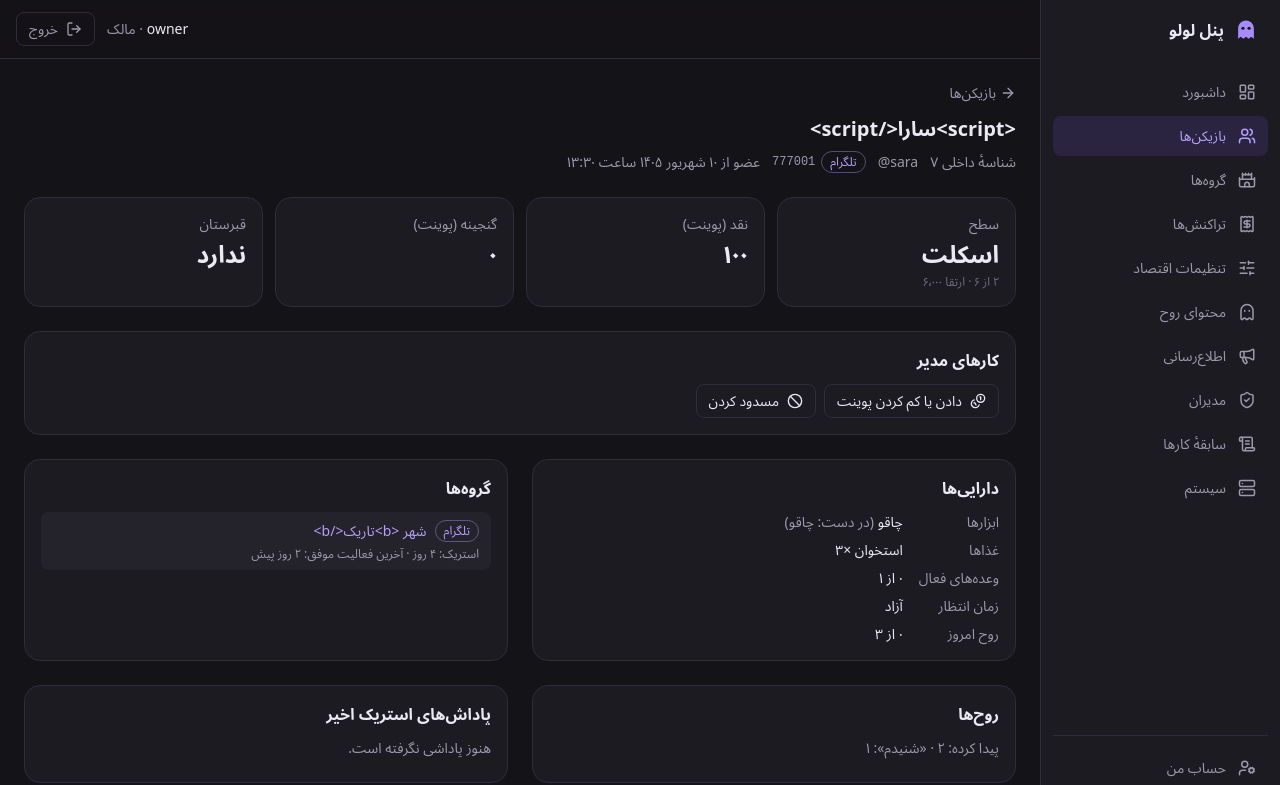
player profile › gives points only after a preview and a confirmation, with one key per form
Click the button "دادن یا کم کردن پوینت". click: (912, 401)
box: [824,384,999,418]
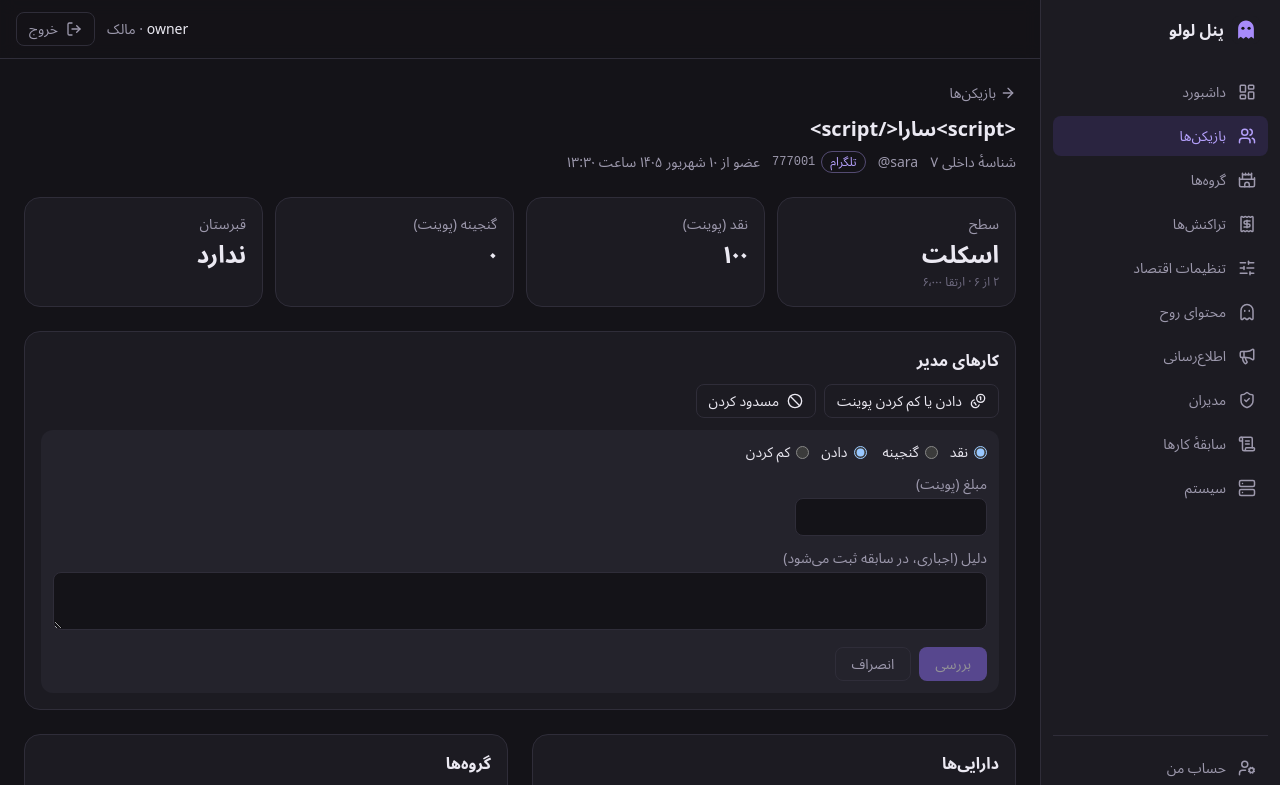
Type "۲۵۰٫۵" into the field labelled "مبلغ (پوینت)". click: (891, 517)
box: [795,498,987,536]
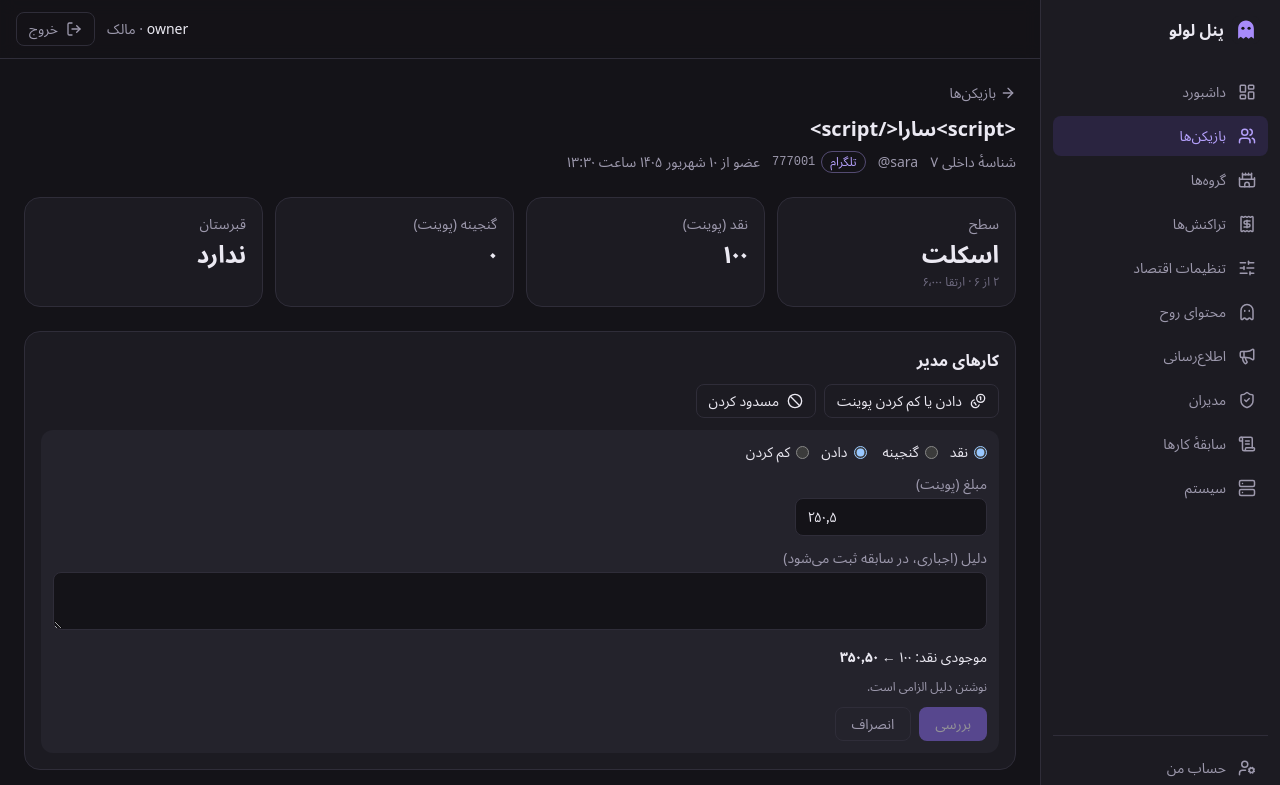
Type "جبران باگ" into the text box labelled "دلیل (اجباری، در سابقه ثبت می‌شود)". click: (520, 601)
box: [53,572,987,630]
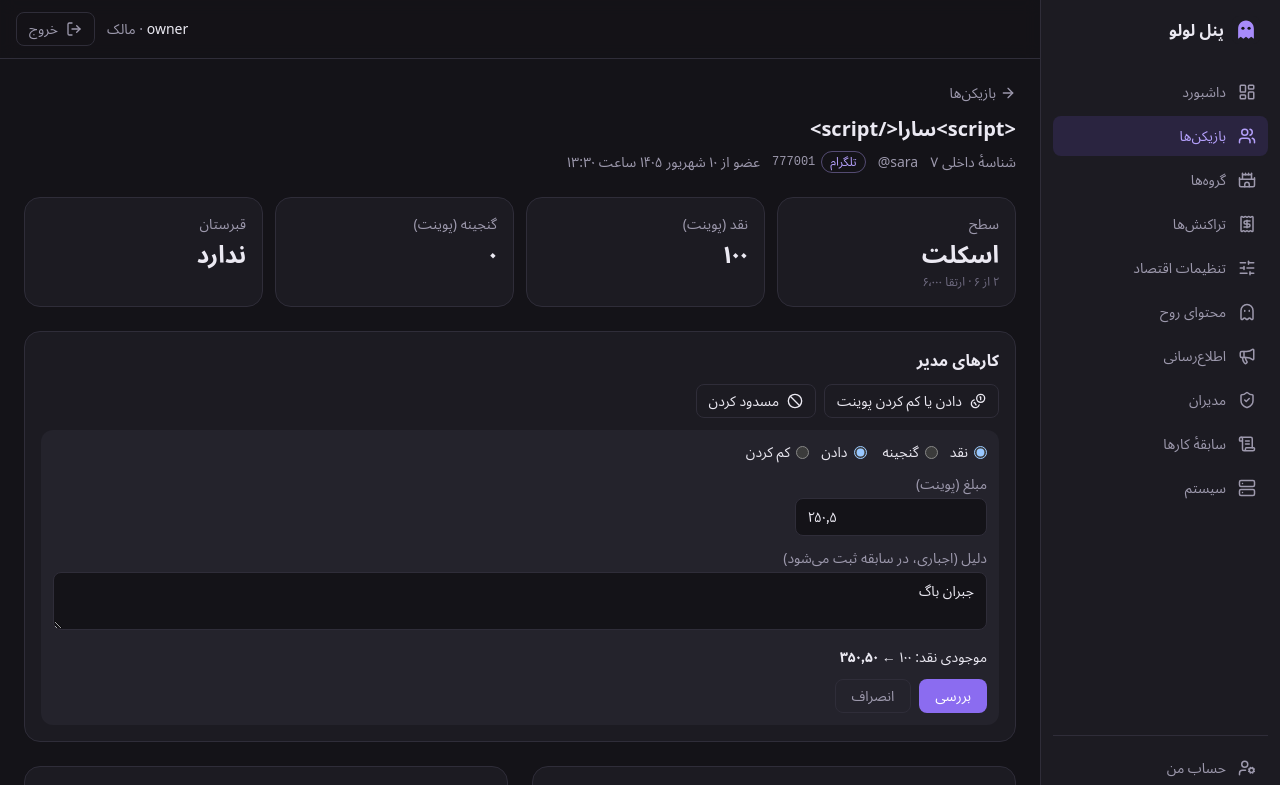
Expected: the text "موجودی نقد: ۱۰۰ ← ۳۵۰٫۵۰" is shown, [840,647,987,666]
Click the button "بررسی". click: (953, 696)
box: [919,679,987,713]
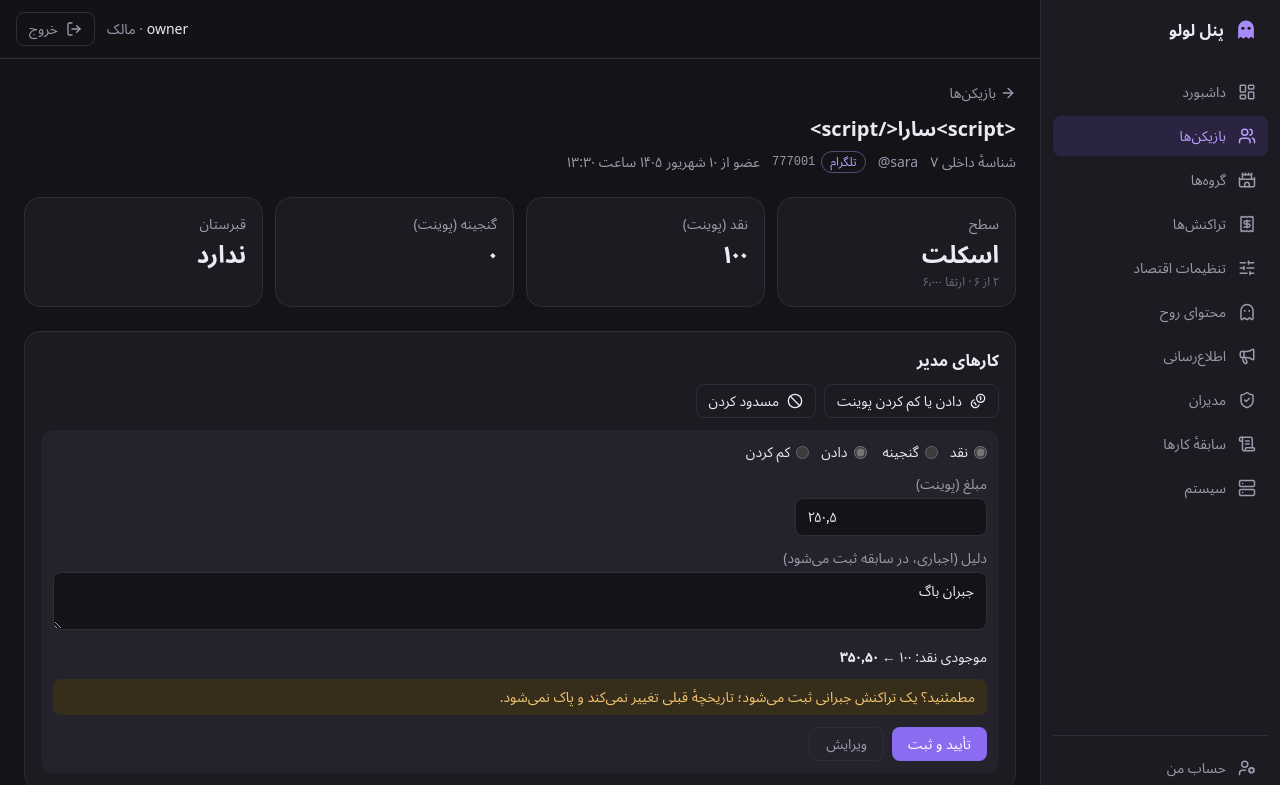
Expected: the text "تاریخچهٔ قبلی تغییر نمی‌کند" is shown, [500,687,975,706]
Click the button "تأیید و ثبت". click: (940, 744)
box: [892,727,987,761]
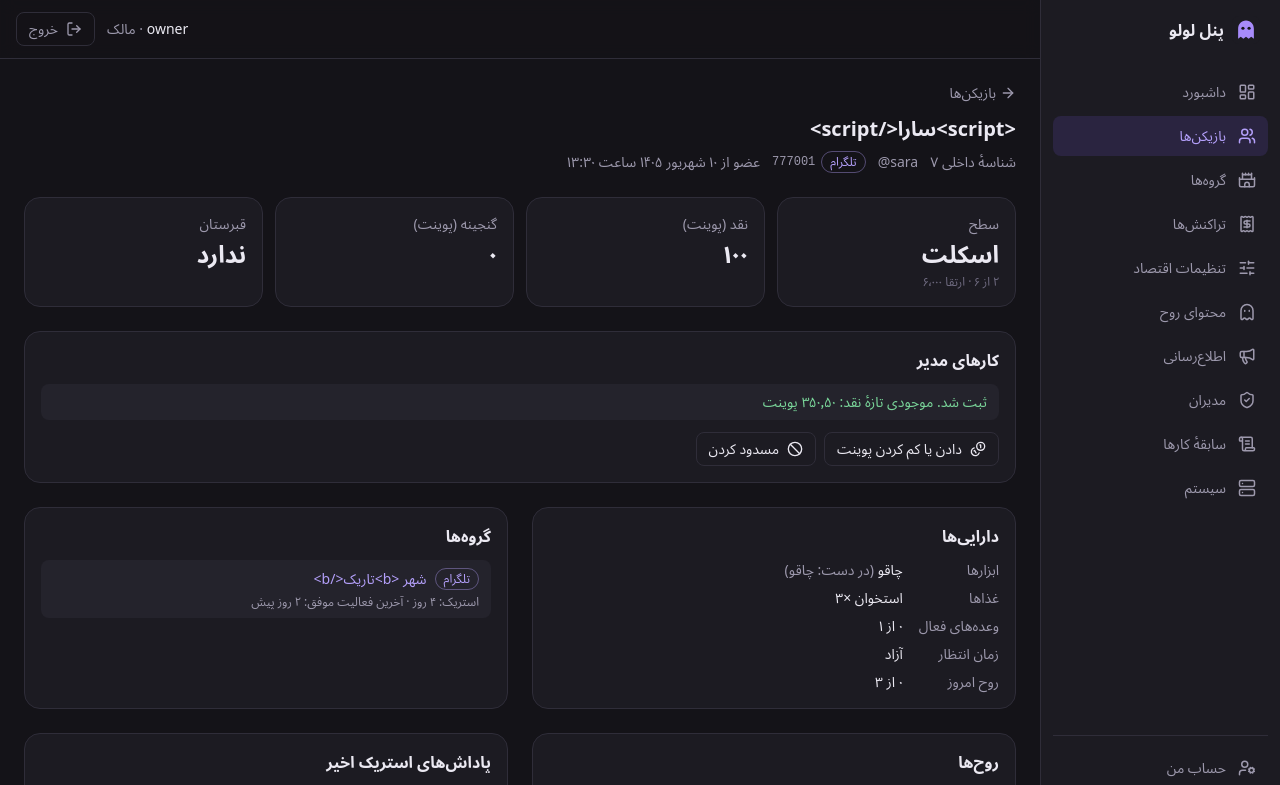
Expected: the text "ثبت شد. موجودی تازهٔ نقد: ۳۵۰٫۵۰ پوینت" is shown, [41,384,999,420]
